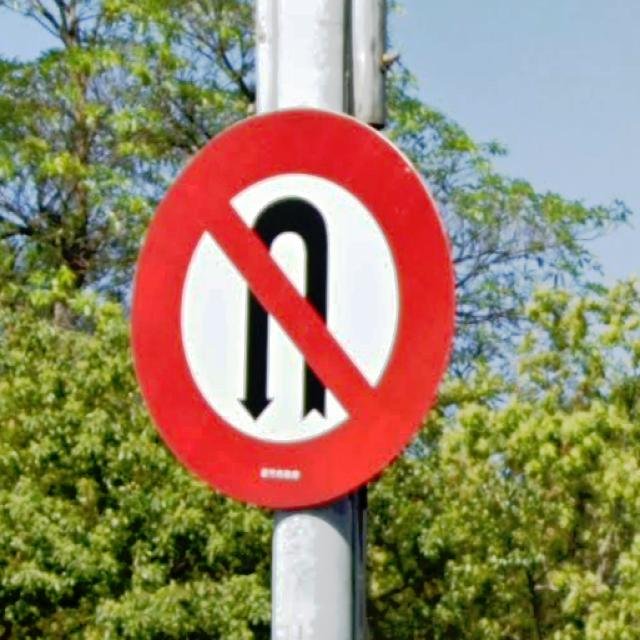nouturn: (127, 104, 457, 509)
